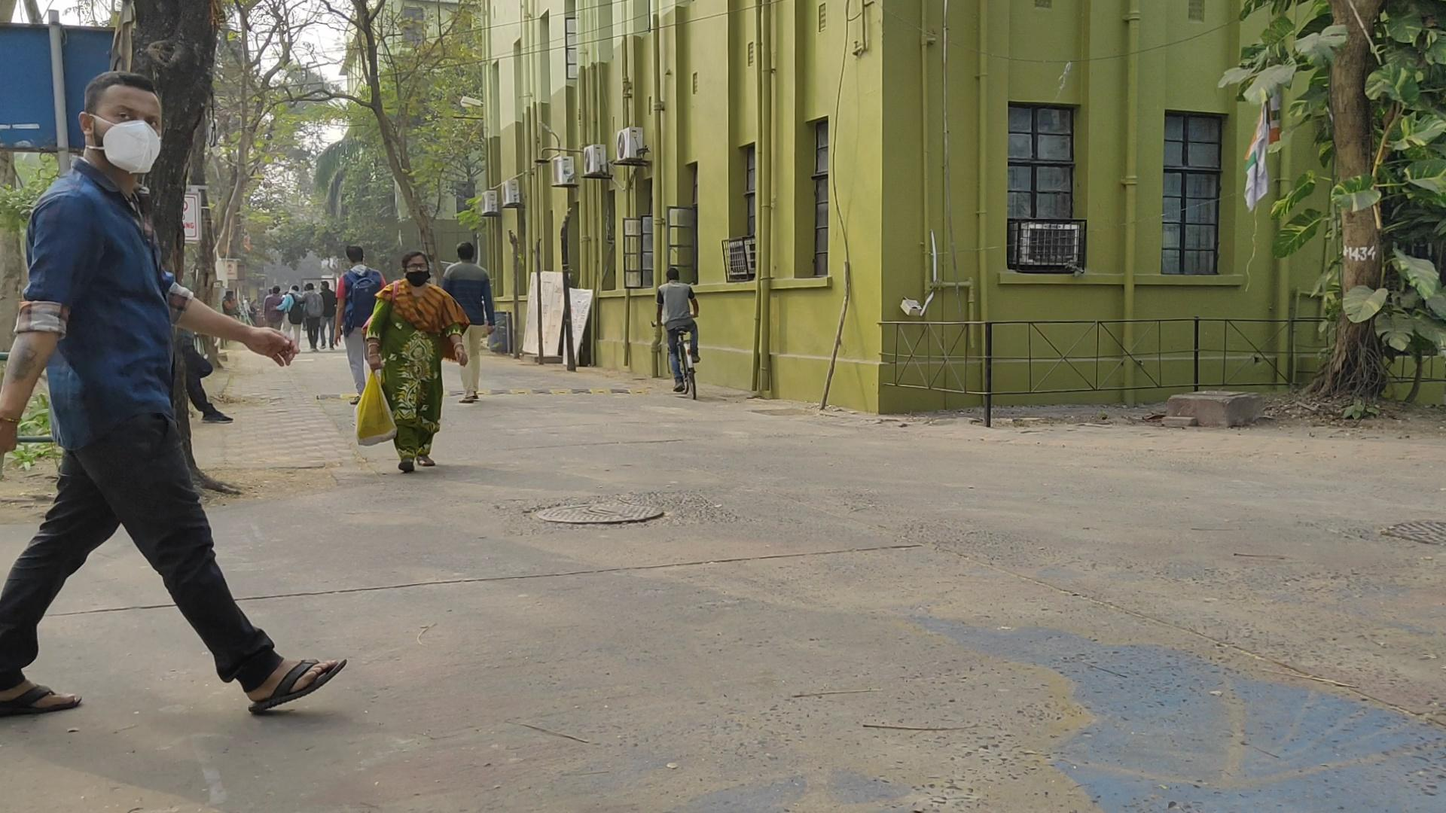bike: (650, 269, 715, 402)
